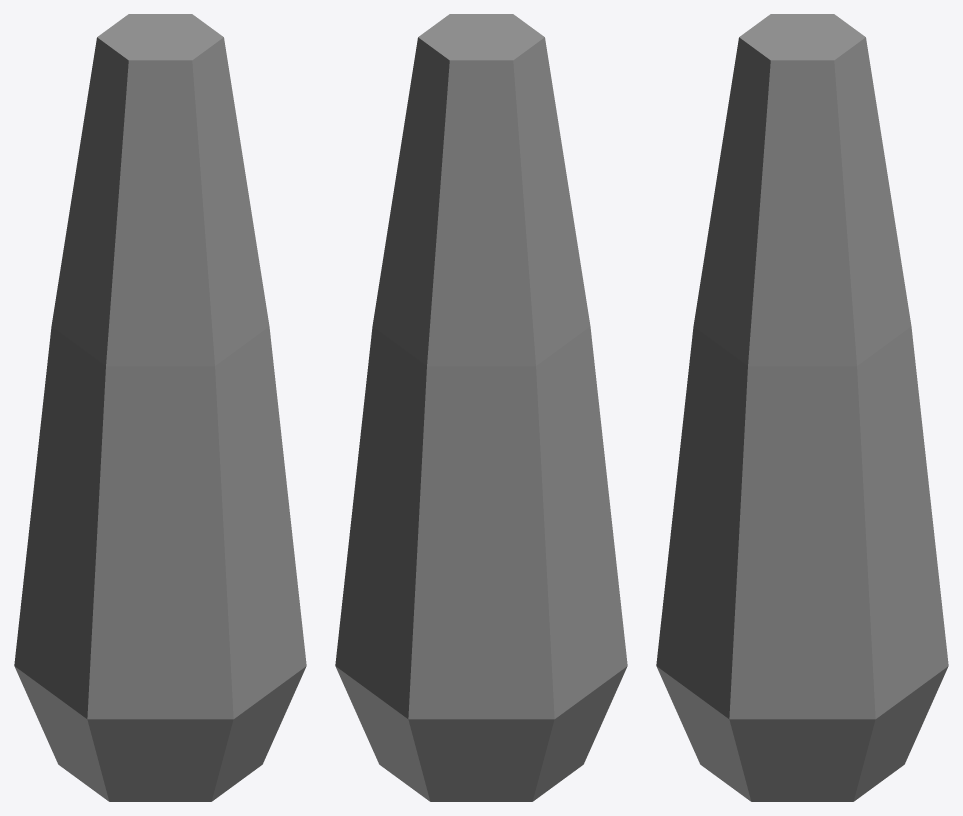
File: Pestle.fbx
The picture shows the model from 3 angles, left to right: view 1: azimuth 30°, elevation 25°; view 2: azimuth 150°, elevation 25°; view 3: azimuth 270°, elevation 25°; orthographic projection.
Parts seen in each view (by area): view 1: Pestle; view 2: Pestle; view 3: Pestle.
Part boxes in pixels (left/top/right/bottom): Pestle: left=14, top=14, right=306, bottom=801; Pestle: left=335, top=14, right=627, bottom=801; Pestle: left=656, top=14, right=948, bottom=801.
Bounding box in the file's own units: 6.47 × 20.51 × 7.47.
